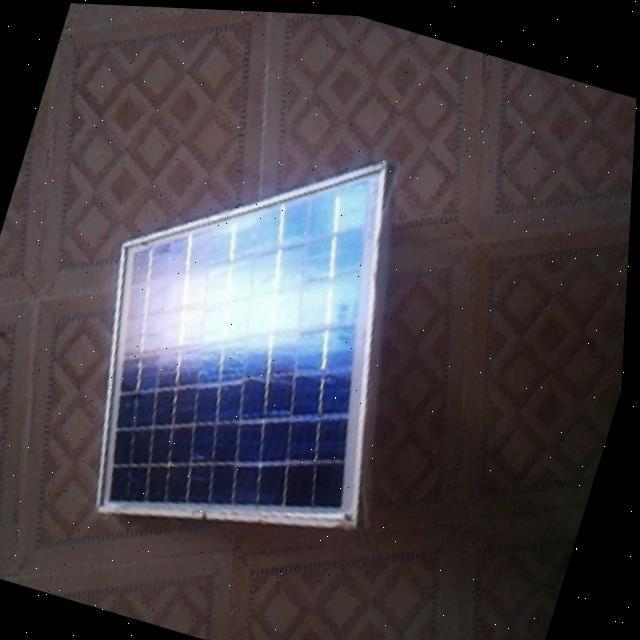Normal Solar Panel: (48, 92, 462, 583)
